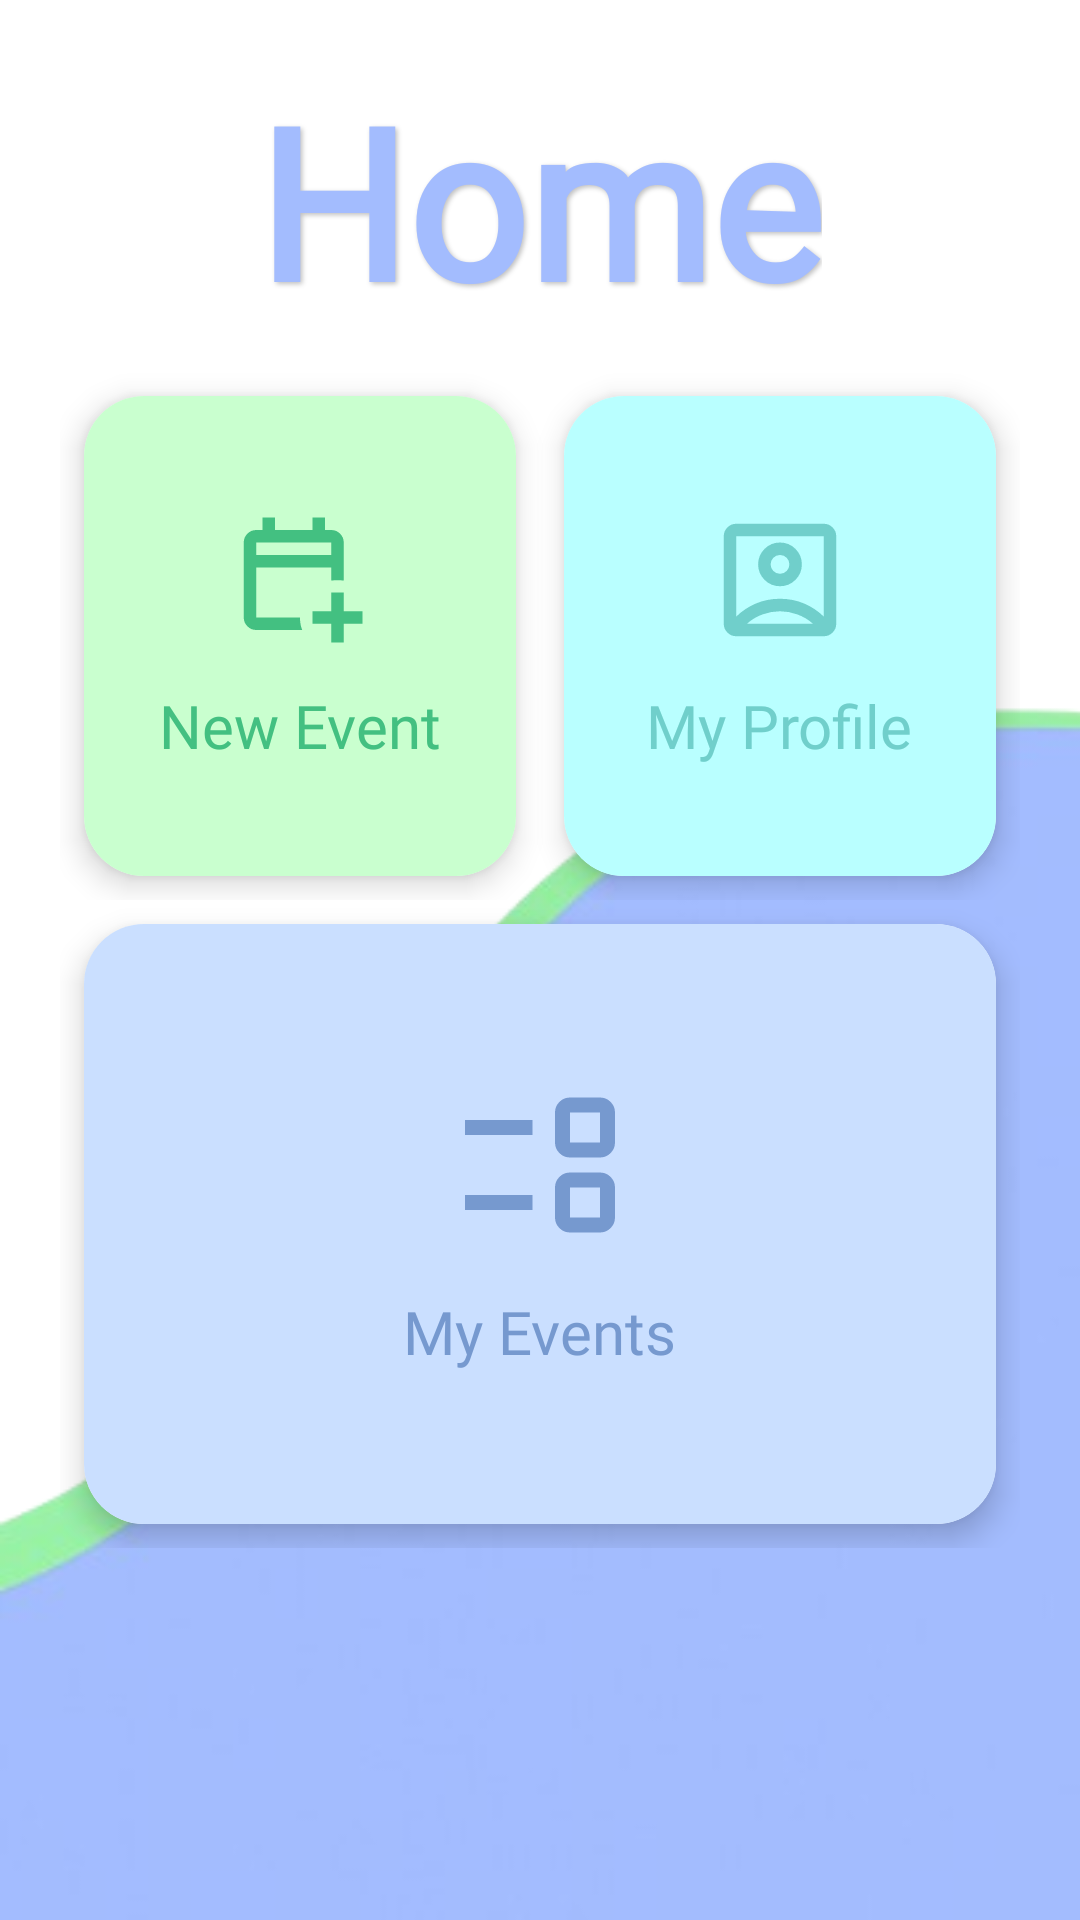

Icons on this 1080px×1920px Android screen, each with the point to tap as (x=x, y=y):
add event: (x=303, y=580)
